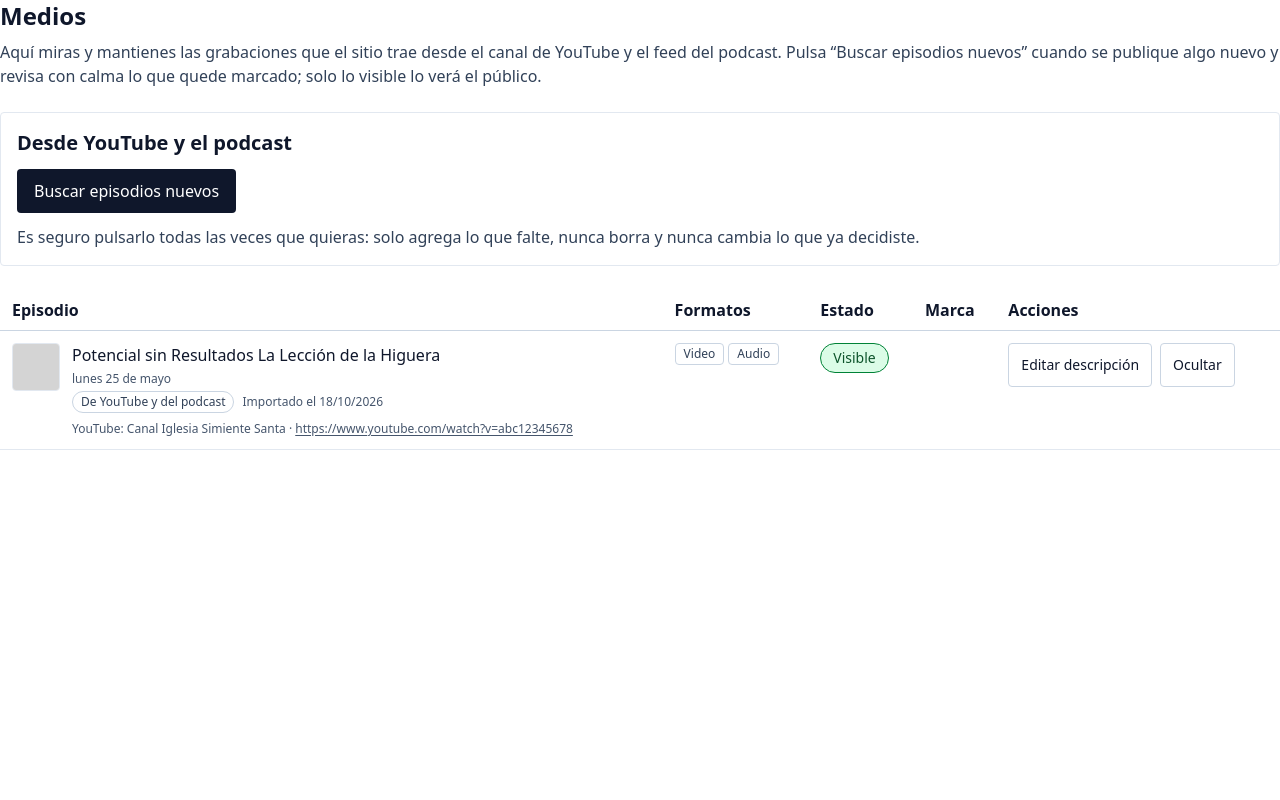
it: MediosPage · listado del catálogo (US3, ux.md §4.3/§5.b) › «Editar descripción» abre el diálogo y el guardado deja su aviso en la página (US3)
The width and height of the screenshot is (1280, 800).
Expected: the table is shown, left=0, top=290, right=1279, bottom=450
Click the button "Editar descripción" at (1080, 365), box left=1008, top=343, right=1152, bottom=387
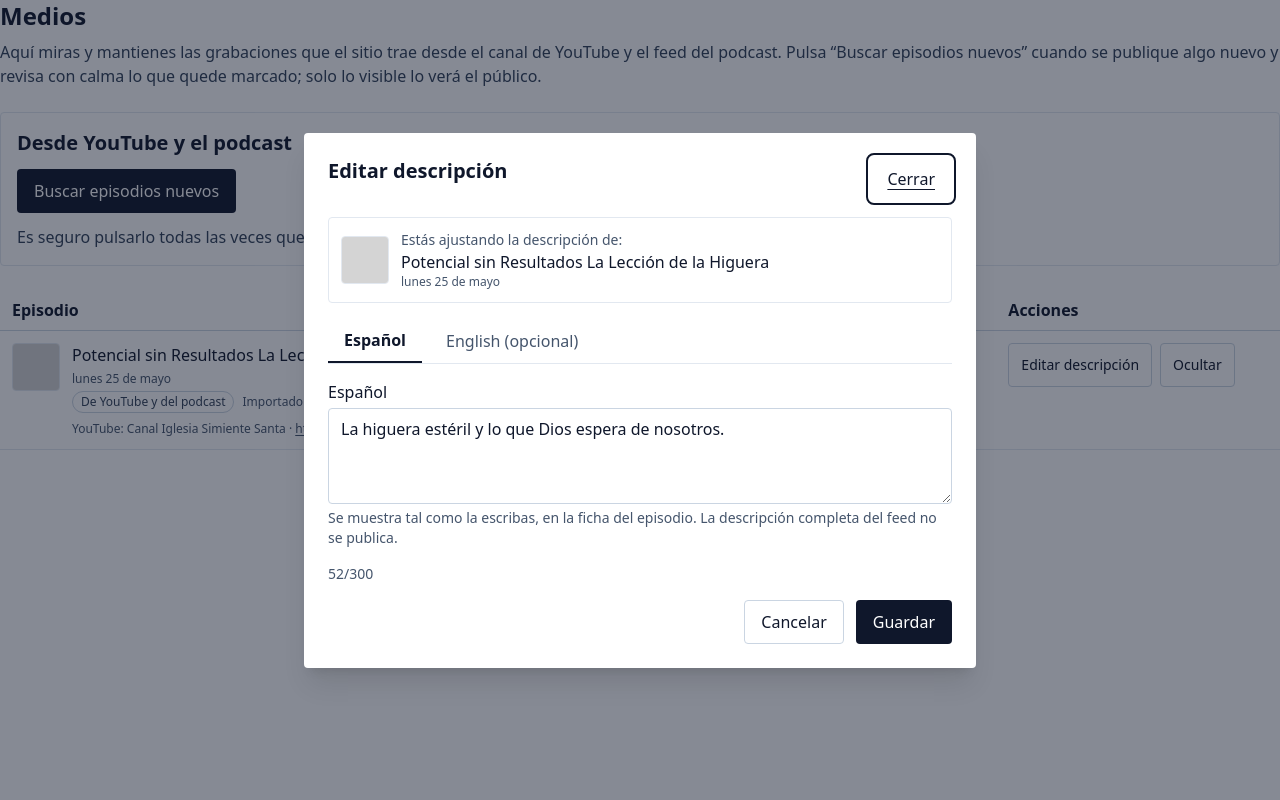
Replace the text in the text box labelled "Español" with "La higuera, explicada." at (640, 456), box left=328, top=408, right=952, bottom=504
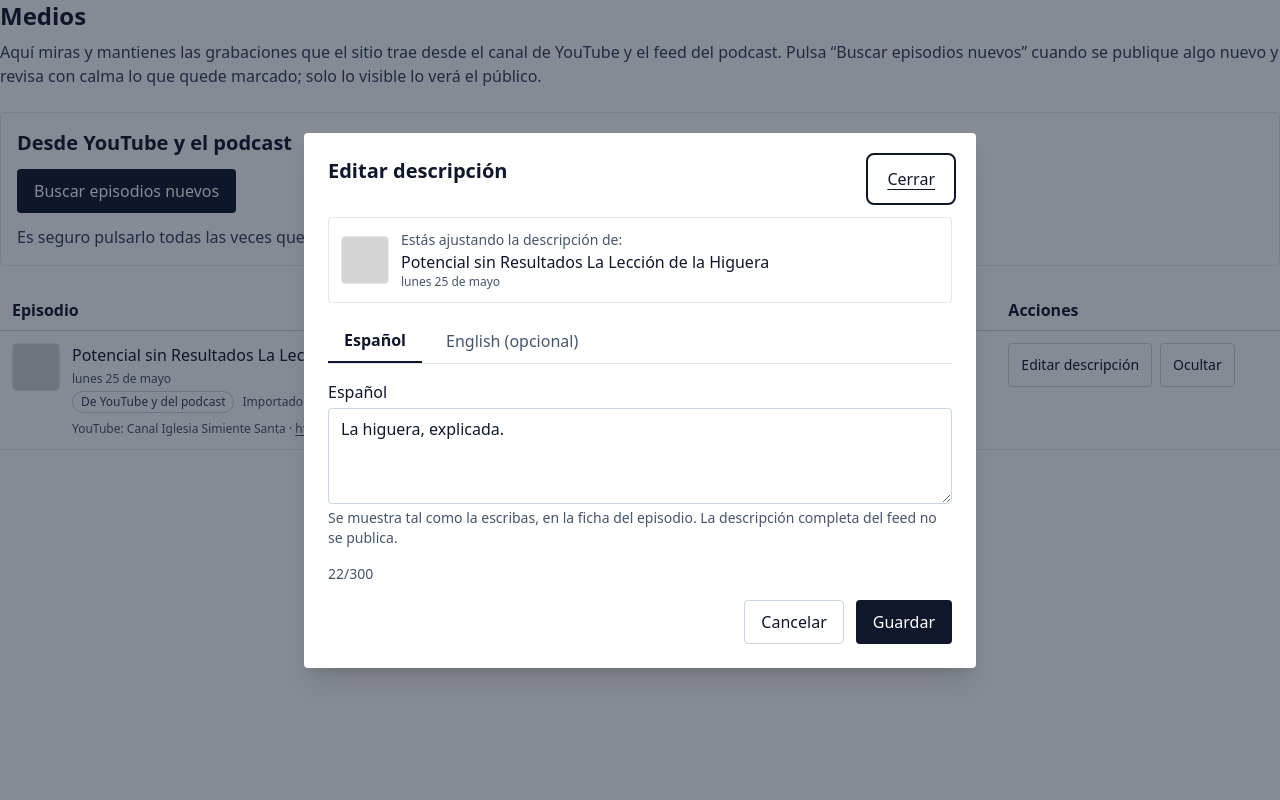
Click the button "Guardar" at (904, 622), box left=856, top=600, right=952, bottom=644
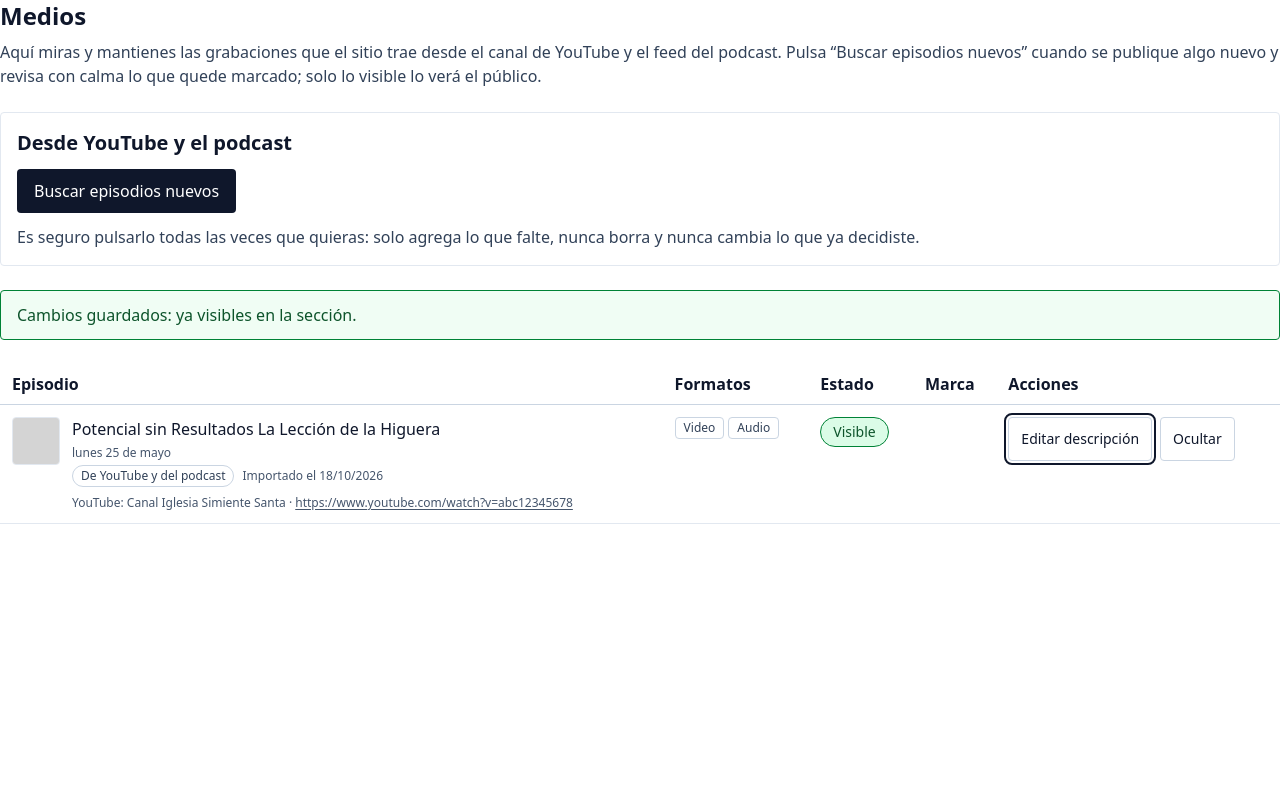
Expected: the text "Cambios guardados: ya visibles en la sección." is shown, left=0, top=290, right=1279, bottom=340
Expected: the dialog is gone
